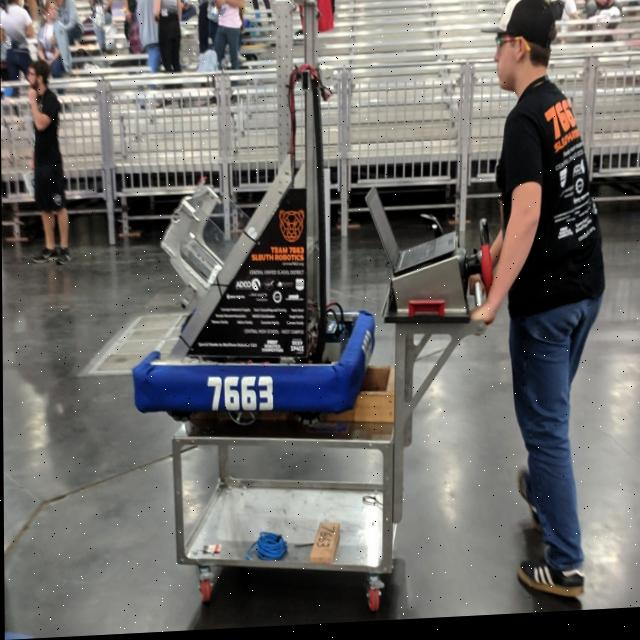robot: (130, 0, 375, 423)
